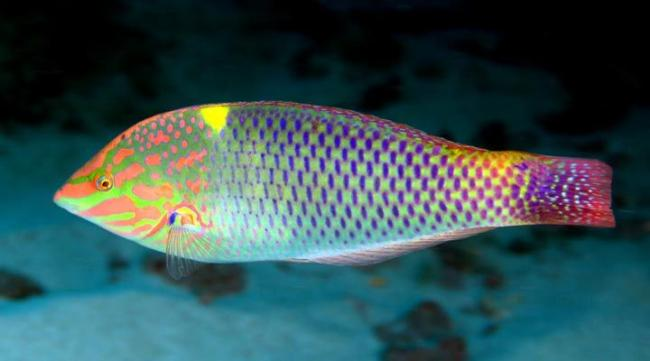fish: (52, 100, 617, 280)
